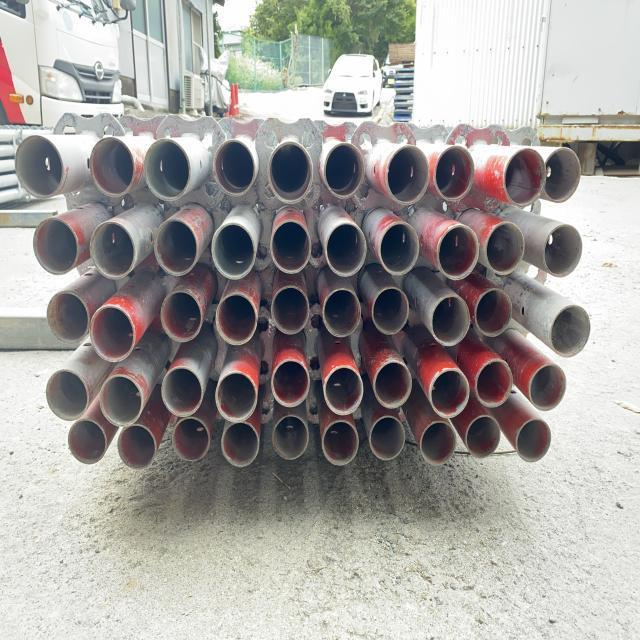pipe: (492, 265, 590, 360), (445, 122, 547, 212), (13, 112, 112, 200), (484, 124, 583, 205), (143, 115, 226, 203), (488, 202, 582, 278), (351, 119, 431, 207), (86, 116, 168, 200), (90, 190, 166, 280), (304, 306, 364, 418), (400, 196, 479, 281), (492, 326, 568, 414), (397, 258, 471, 348), (90, 272, 162, 364), (32, 196, 116, 274), (254, 116, 322, 209), (303, 183, 368, 280), (214, 314, 270, 424), (407, 324, 470, 419), (160, 321, 222, 416), (210, 191, 274, 281), (152, 199, 222, 277), (408, 124, 476, 203), (356, 194, 420, 277), (159, 262, 223, 344), (357, 316, 413, 409), (451, 329, 515, 409), (308, 117, 366, 205), (46, 272, 116, 344), (214, 263, 274, 347), (99, 345, 160, 427), (213, 119, 273, 198), (458, 207, 526, 276), (447, 269, 512, 339), (116, 397, 171, 472), (44, 347, 97, 423), (306, 395, 360, 468), (360, 259, 410, 336), (500, 390, 552, 464), (314, 262, 362, 338), (266, 202, 312, 276), (66, 403, 119, 466), (268, 262, 310, 338), (410, 404, 458, 468), (171, 396, 216, 464), (270, 330, 308, 409), (457, 399, 501, 461), (364, 401, 407, 462), (220, 419, 260, 470), (272, 414, 310, 462)
